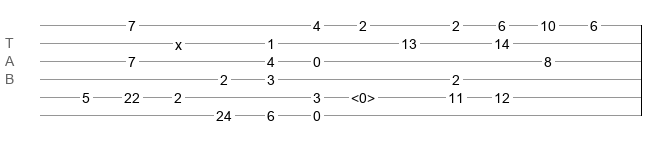0: (313, 54, 321, 64), (313, 108, 321, 118)
1: (267, 36, 275, 46)
10: (540, 18, 556, 28)
11: (448, 90, 464, 100)
12: (494, 90, 510, 100)
13: (401, 36, 417, 46)
14: (494, 36, 510, 46)
2: (174, 90, 182, 100), (220, 72, 228, 82), (359, 18, 367, 28), (452, 18, 460, 28), (452, 72, 460, 82)
22: (124, 90, 140, 100)
24: (216, 108, 232, 118)
3: (267, 72, 275, 82), (313, 90, 321, 100)
4: (267, 54, 275, 64), (313, 18, 321, 28)
5: (82, 90, 90, 100)
6: (267, 108, 275, 118), (498, 18, 506, 28), (590, 18, 598, 28)
7: (128, 18, 136, 28), (128, 54, 136, 64)
8: (544, 54, 552, 64)
harmonic: (351, 90, 375, 100)
x: (175, 37, 182, 45)
